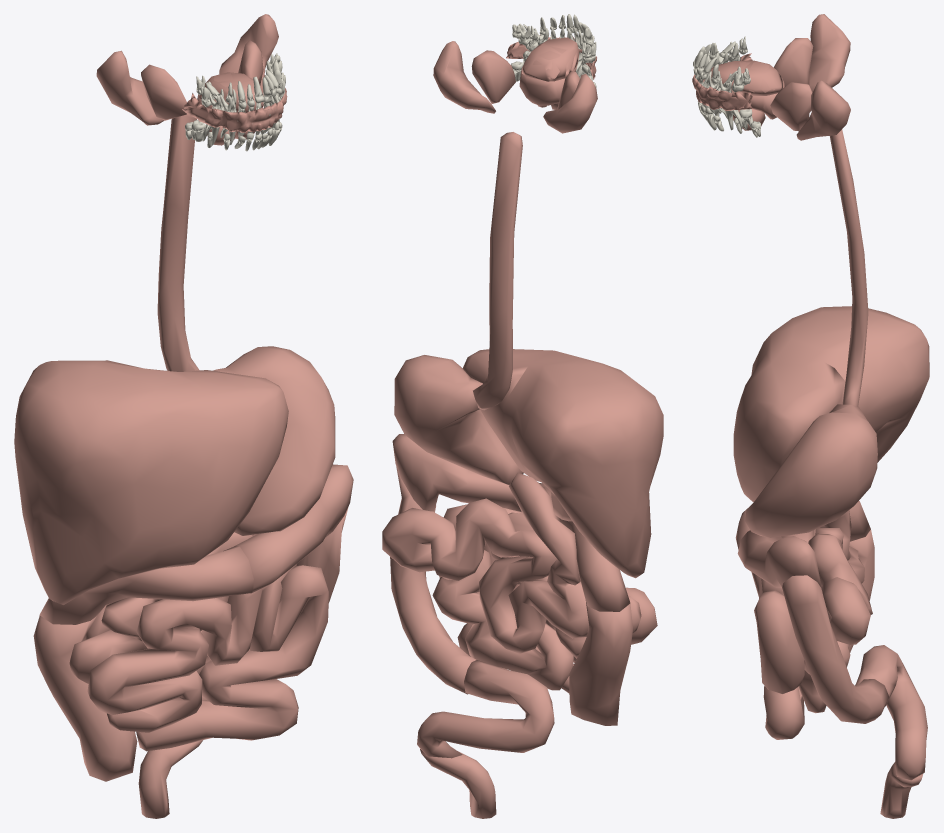
Rendered from pediatric_child_5y_male.digestive.LOD2.glb.
3 views of the same model, side by side, from view 1: azimuth 30°, elevation 25°; view 2: azimuth 150°, elevation 25°; view 3: azimuth 270°, elevation 25° (orthographic). The views are drawn at different scales.
Visible parts, largest first — view 1: PEDIATRIC.CHILD_5Y.MALE.DIGESTIVE.LIVER, PEDIATRIC.CHILD_5Y.MALE.DIGESTIVE.SMALL_INTESTINE_WALL, PEDIATRIC.CHILD_5Y.MALE.DIGESTIVE.STOMACH_WALL, PEDIATRIC.CHILD_5Y.MALE.DIGESTIVE.ASCENDING_COLON_WALL, PEDIATRIC.CHILD_5Y.MALE.DIGESTIVE.OESOPHAGUS_WALL, PEDIATRIC.CHILD_5Y.MALE.DIGESTIVE.TRANSVERSE_COLON_WALL.R, PEDIATRIC.CHILD_5Y.MALE.DIGESTIVE.TRANSVERSE_COLON_WALL.L, PEDIATRIC.CHILD_5Y.MALE.DIGESTIVE.SALIVARY_GLANDS.R, PEDIATRIC.CHILD_5Y.MALE.DIGESTIVE.RECTUM_WALL, PEDIATRIC.CHILD_5Y.MALE.DIGESTIVE.SALIVARY_GLANDS.L, PEDIATRIC.CHILD_5Y.MALE.DIGESTIVE.ORAL_MUCOSA_LIP_AND_CHEEKS, PEDIATRIC.CHILD_5Y.MALE.DIGESTIVE.PERMANENT_CEMENTUM (+4 smaller); view 2: PEDIATRIC.CHILD_5Y.MALE.DIGESTIVE.SMALL_INTESTINE_WALL, PEDIATRIC.CHILD_5Y.MALE.DIGESTIVE.LIVER, PEDIATRIC.CHILD_5Y.MALE.DIGESTIVE.STOMACH_WALL, PEDIATRIC.CHILD_5Y.MALE.DIGESTIVE.SIGMOID_COLON_WALL, PEDIATRIC.CHILD_5Y.MALE.DIGESTIVE.OESOPHAGUS_WALL, PEDIATRIC.CHILD_5Y.MALE.DIGESTIVE.ASCENDING_COLON_WALL, PEDIATRIC.CHILD_5Y.MALE.DIGESTIVE.DESCENDING_COLON_WALL, PEDIATRIC.CHILD_5Y.MALE.DIGESTIVE.TRANSVERSE_COLON_WALL.L, PEDIATRIC.CHILD_5Y.MALE.DIGESTIVE.SALIVARY_GLANDS.L, PEDIATRIC.CHILD_5Y.MALE.DIGESTIVE.TRANSVERSE_COLON_WALL.R, PEDIATRIC.CHILD_5Y.MALE.DIGESTIVE.RECTUM_WALL, PEDIATRIC.CHILD_5Y.MALE.DIGESTIVE.SALIVARY_GLANDS.R (+4 smaller); view 3: PEDIATRIC.CHILD_5Y.MALE.DIGESTIVE.LIVER, PEDIATRIC.CHILD_5Y.MALE.DIGESTIVE.SMALL_INTESTINE_WALL, PEDIATRIC.CHILD_5Y.MALE.DIGESTIVE.STOMACH_WALL, PEDIATRIC.CHILD_5Y.MALE.DIGESTIVE.DESCENDING_COLON_WALL, PEDIATRIC.CHILD_5Y.MALE.DIGESTIVE.SIGMOID_COLON_WALL, PEDIATRIC.CHILD_5Y.MALE.DIGESTIVE.OESOPHAGUS_WALL, PEDIATRIC.CHILD_5Y.MALE.DIGESTIVE.SALIVARY_GLANDS.R, PEDIATRIC.CHILD_5Y.MALE.DIGESTIVE.SALIVARY_GLANDS.L, PEDIATRIC.CHILD_5Y.MALE.DIGESTIVE.TRANSVERSE_COLON_WALL.L, PEDIATRIC.CHILD_5Y.MALE.DIGESTIVE.PERMANENT_CEMENTUM, PEDIATRIC.CHILD_5Y.MALE.DIGESTIVE.ORAL_MUCOSA_MOUTH_FLOOR, PEDIATRIC.CHILD_5Y.MALE.DIGESTIVE.RECTUM_WALL (+5 smaller).
Boxes of the visible parts, left/top/right/bottom form: PEDIATRIC.CHILD_5Y.MALE.DIGESTIVE.LIVER: left=14, top=360, right=288, bottom=604; PEDIATRIC.CHILD_5Y.MALE.DIGESTIVE.SMALL_INTESTINE_WALL: left=69, top=532, right=328, bottom=751; PEDIATRIC.CHILD_5Y.MALE.DIGESTIVE.STOMACH_WALL: left=213, top=346, right=335, bottom=535; PEDIATRIC.CHILD_5Y.MALE.DIGESTIVE.ASCENDING_COLON_WALL: left=33, top=615, right=137, bottom=781; PEDIATRIC.CHILD_5Y.MALE.DIGESTIVE.OESOPHAGUS_WALL: left=157, top=114, right=199, bottom=371; PEDIATRIC.CHILD_5Y.MALE.DIGESTIVE.TRANSVERSE_COLON_WALL.R: left=39, top=546, right=253, bottom=624; PEDIATRIC.CHILD_5Y.MALE.DIGESTIVE.TRANSVERSE_COLON_WALL.L: left=234, top=464, right=353, bottom=593; PEDIATRIC.CHILD_5Y.MALE.DIGESTIVE.SALIVARY_GLANDS.R: left=96, top=50, right=236, bottom=145; PEDIATRIC.CHILD_5Y.MALE.DIGESTIVE.RECTUM_WALL: left=138, top=740, right=202, bottom=818; PEDIATRIC.CHILD_5Y.MALE.DIGESTIVE.SALIVARY_GLANDS.L: left=219, top=14, right=278, bottom=139; PEDIATRIC.CHILD_5Y.MALE.DIGESTIVE.ORAL_MUCOSA_LIP_AND_CHEEKS: left=182, top=88, right=287, bottom=132; PEDIATRIC.CHILD_5Y.MALE.DIGESTIVE.PERMANENT_CEMENTUM: left=185, top=53, right=282, bottom=151; PEDIATRIC.CHILD_5Y.MALE.DIGESTIVE.SMALL_INTESTINE_WALL: left=382, top=472, right=657, bottom=693; PEDIATRIC.CHILD_5Y.MALE.DIGESTIVE.LIVER: left=462, top=349, right=663, bottom=578; PEDIATRIC.CHILD_5Y.MALE.DIGESTIVE.STOMACH_WALL: left=394, top=355, right=523, bottom=484; PEDIATRIC.CHILD_5Y.MALE.DIGESTIVE.SIGMOID_COLON_WALL: left=417, top=660, right=554, bottom=758; PEDIATRIC.CHILD_5Y.MALE.DIGESTIVE.OESOPHAGUS_WALL: left=473, top=132, right=522, bottom=410; PEDIATRIC.CHILD_5Y.MALE.DIGESTIVE.ASCENDING_COLON_WALL: left=569, top=602, right=632, bottom=725; PEDIATRIC.CHILD_5Y.MALE.DIGESTIVE.DESCENDING_COLON_WALL: left=390, top=466, right=475, bottom=694; PEDIATRIC.CHILD_5Y.MALE.DIGESTIVE.TRANSVERSE_COLON_WALL.L: left=392, top=434, right=521, bottom=512; PEDIATRIC.CHILD_5Y.MALE.DIGESTIVE.SALIVARY_GLANDS.L: left=433, top=41, right=546, bottom=113; PEDIATRIC.CHILD_5Y.MALE.DIGESTIVE.TRANSVERSE_COLON_WALL.R: left=539, top=483, right=630, bottom=611; PEDIATRIC.CHILD_5Y.MALE.DIGESTIVE.RECTUM_WALL: left=420, top=749, right=496, bottom=818; PEDIATRIC.CHILD_5Y.MALE.DIGESTIVE.SALIVARY_GLANDS.R: left=543, top=71, right=597, bottom=133; PEDIATRIC.CHILD_5Y.MALE.DIGESTIVE.LIVER: left=733, top=306, right=929, bottom=501; PEDIATRIC.CHILD_5Y.MALE.DIGESTIVE.SMALL_INTESTINE_WALL: left=751, top=510, right=872, bottom=739; PEDIATRIC.CHILD_5Y.MALE.DIGESTIVE.STOMACH_WALL: left=745, top=404, right=877, bottom=537; PEDIATRIC.CHILD_5Y.MALE.DIGESTIVE.DESCENDING_COLON_WALL: left=782, top=575, right=889, bottom=723; PEDIATRIC.CHILD_5Y.MALE.DIGESTIVE.SIGMOID_COLON_WALL: left=855, top=645, right=927, bottom=780; PEDIATRIC.CHILD_5Y.MALE.DIGESTIVE.OESOPHAGUS_WALL: left=830, top=129, right=868, bottom=406; PEDIATRIC.CHILD_5Y.MALE.DIGESTIVE.SALIVARY_GLANDS.R: left=774, top=14, right=850, bottom=92; PEDIATRIC.CHILD_5Y.MALE.DIGESTIVE.SALIVARY_GLANDS.L: left=733, top=80, right=850, bottom=140; PEDIATRIC.CHILD_5Y.MALE.DIGESTIVE.TRANSVERSE_COLON_WALL.L: left=737, top=530, right=822, bottom=590; PEDIATRIC.CHILD_5Y.MALE.DIGESTIVE.PERMANENT_CEMENTUM: left=694, top=36, right=760, bottom=137; PEDIATRIC.CHILD_5Y.MALE.DIGESTIVE.ORAL_MUCOSA_MOUTH_FLOOR: left=709, top=60, right=782, bottom=95; PEDIATRIC.CHILD_5Y.MALE.DIGESTIVE.RECTUM_WALL: left=880, top=762, right=922, bottom=818.
Size of the model in its own units: 0.1878 by 0.4793 by 0.1344.
